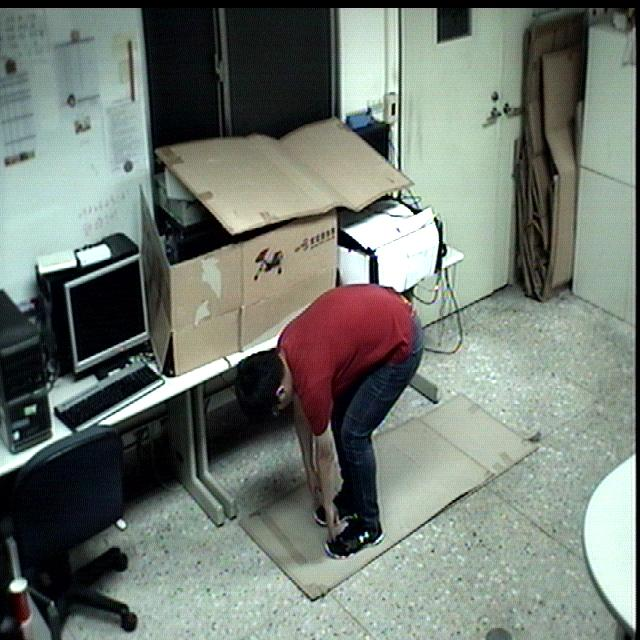bend: (223, 276, 436, 562)
